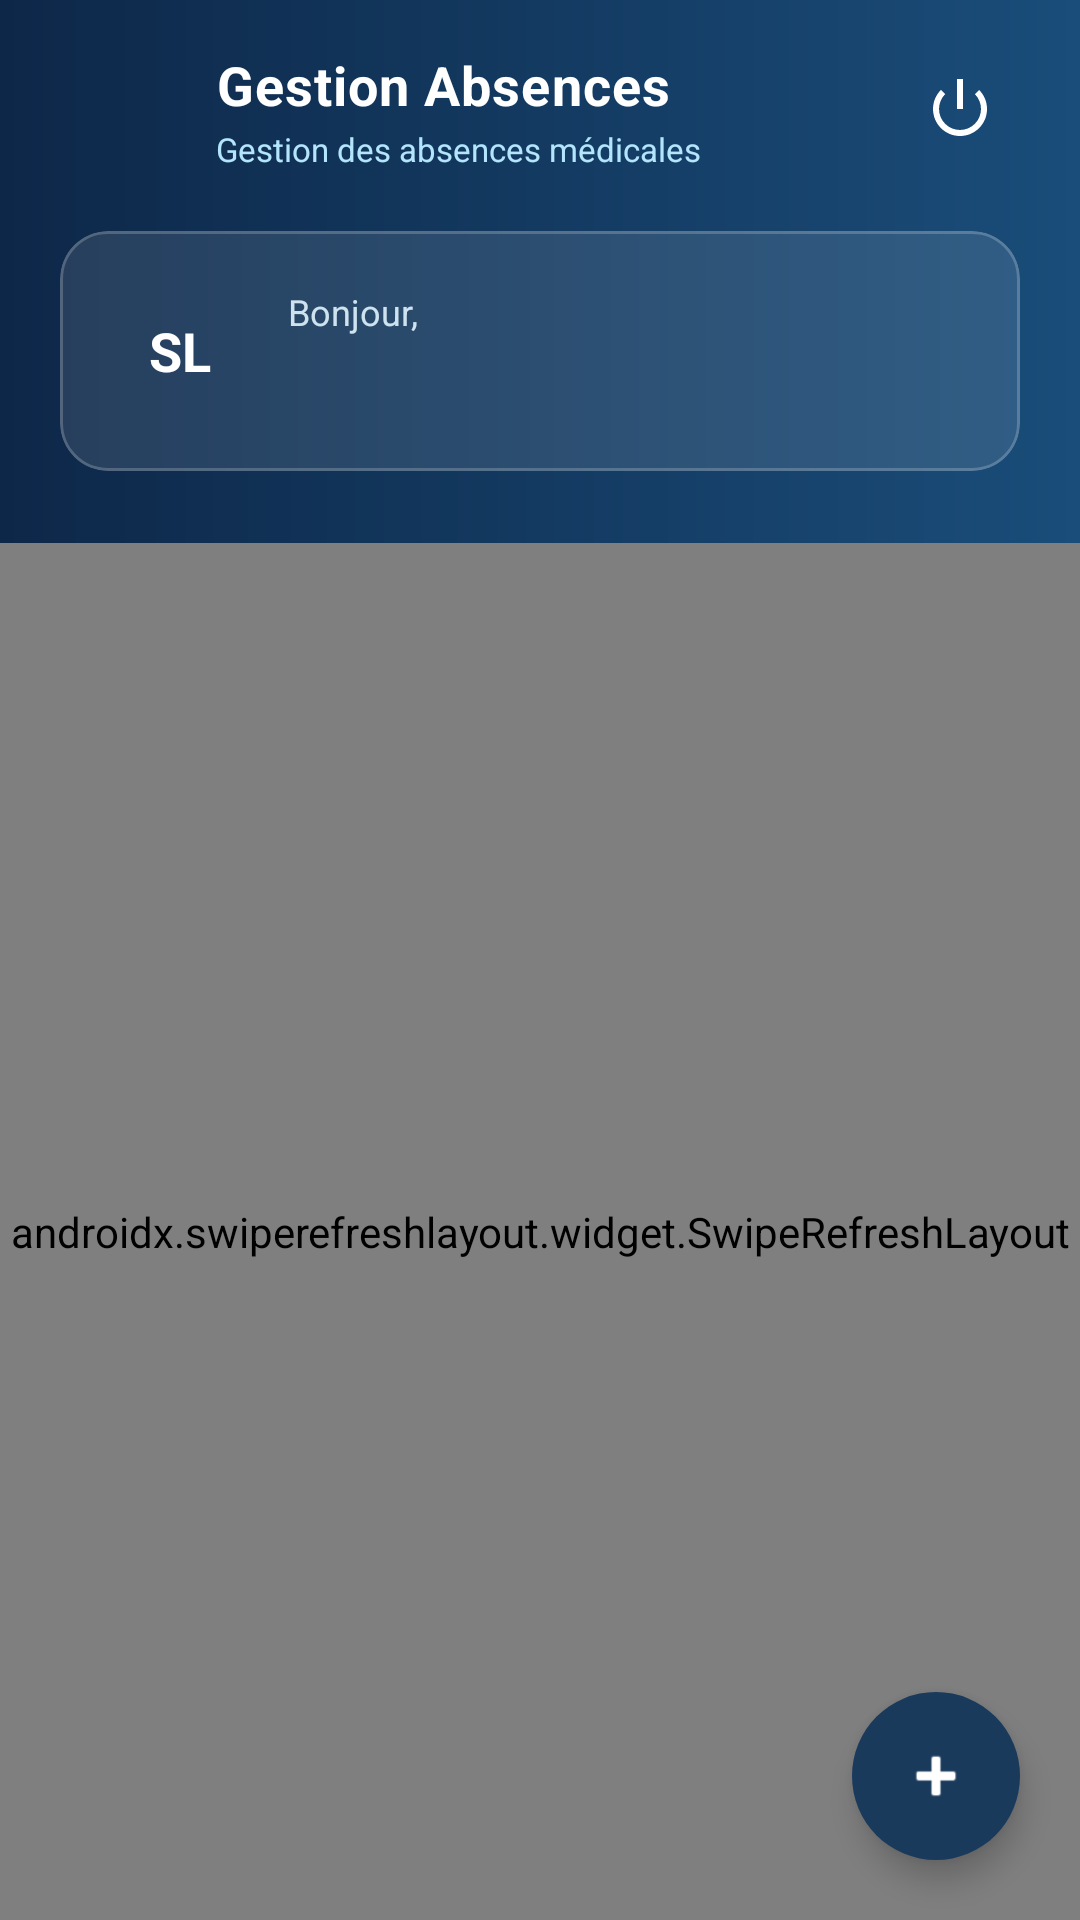

Icon click points for this 1080×1920 phone screenshot, format [x,y]:
Déconnexion: [960,107]
Nouvelle absence: [936,1776]
